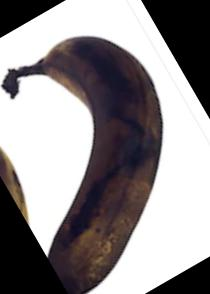Banana Overripe: (0, 28, 185, 289)
